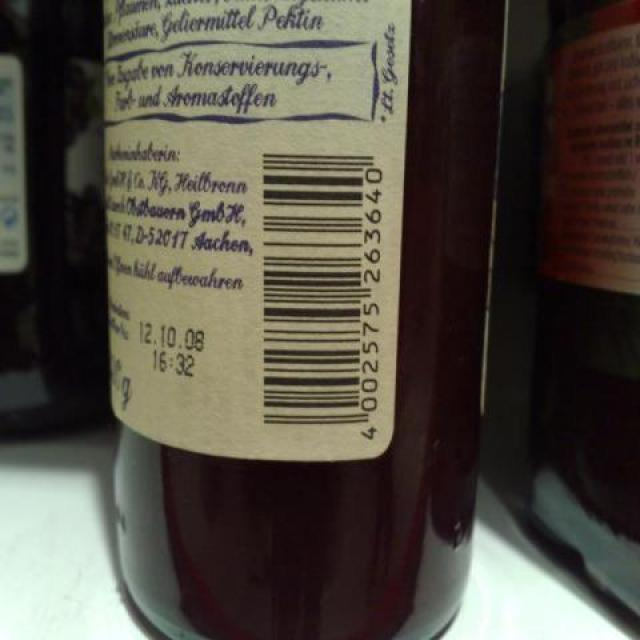Barcode: (258, 144, 387, 447)
